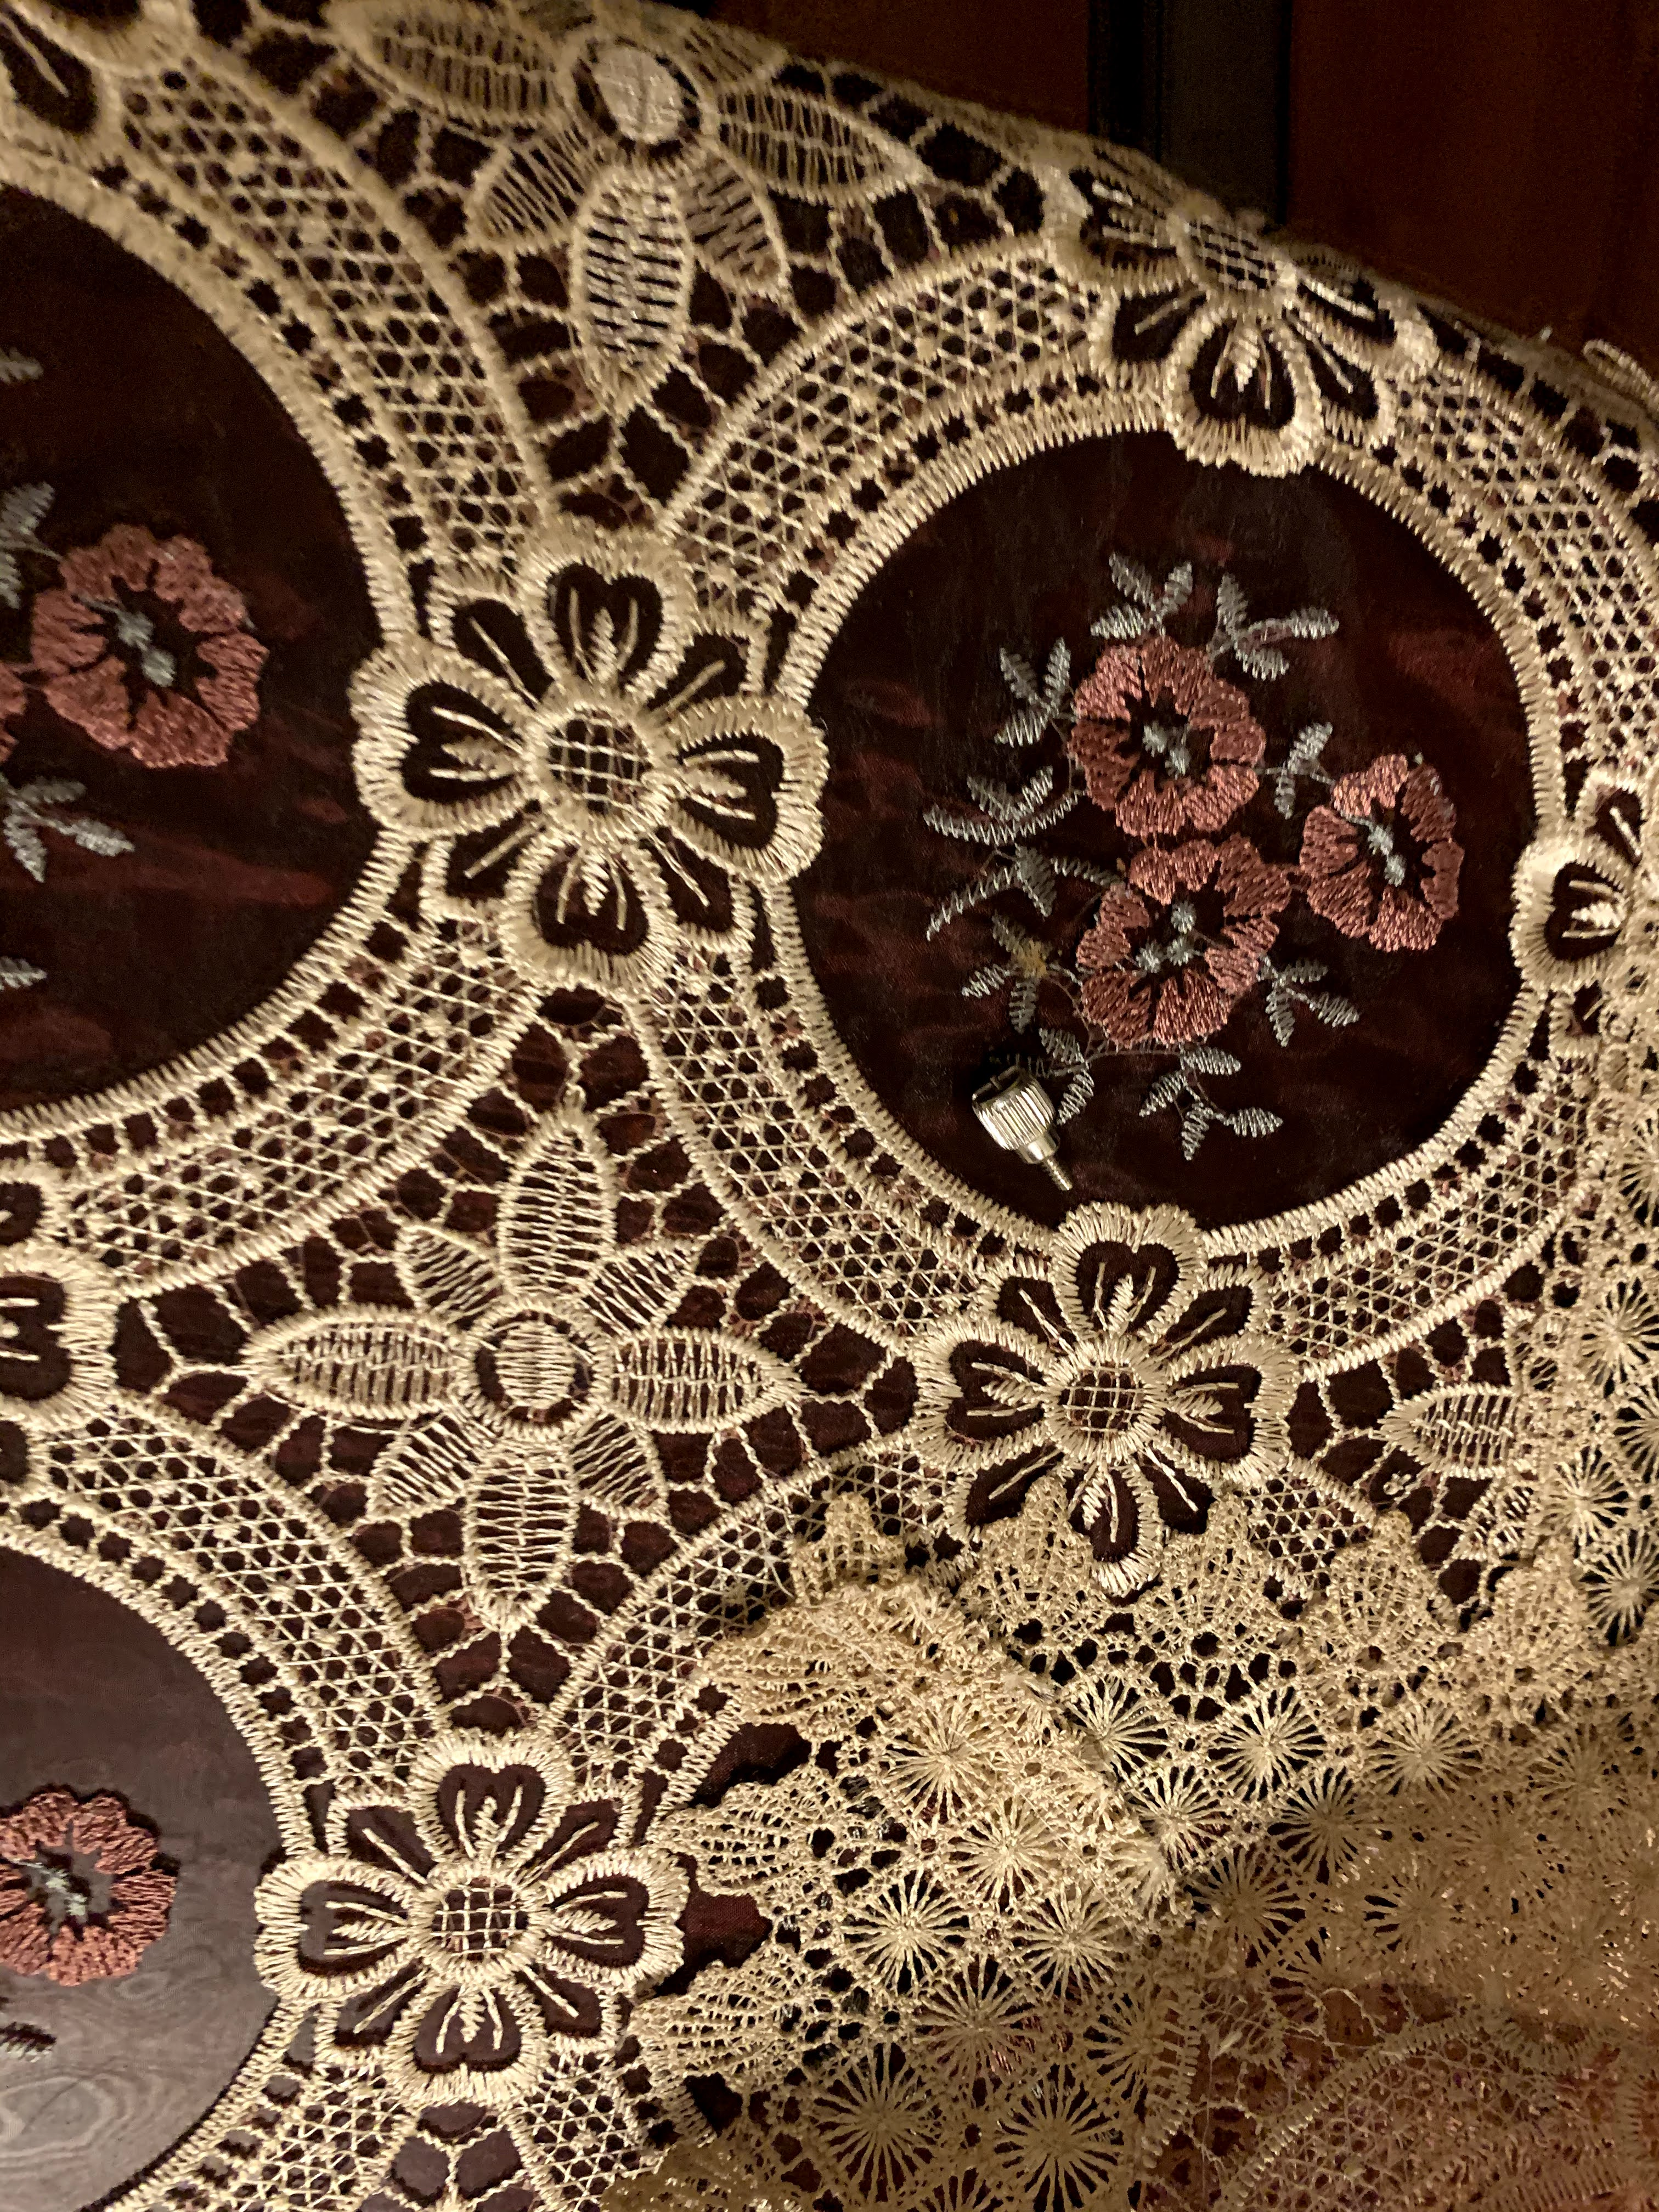Space-debris-small: (950, 1054, 1100, 1209)
